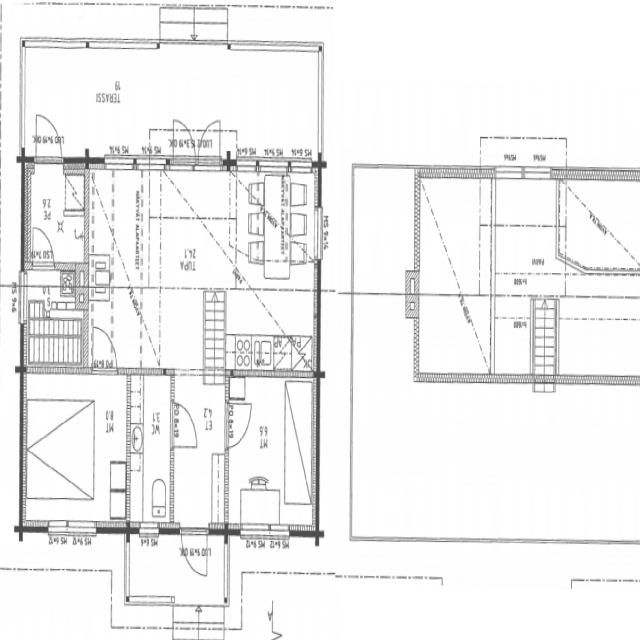door: (180, 522, 208, 585), (36, 110, 62, 171), (92, 323, 118, 373), (173, 117, 196, 171), (225, 404, 253, 448), (171, 403, 198, 447), (198, 118, 220, 170), (32, 222, 54, 270)
